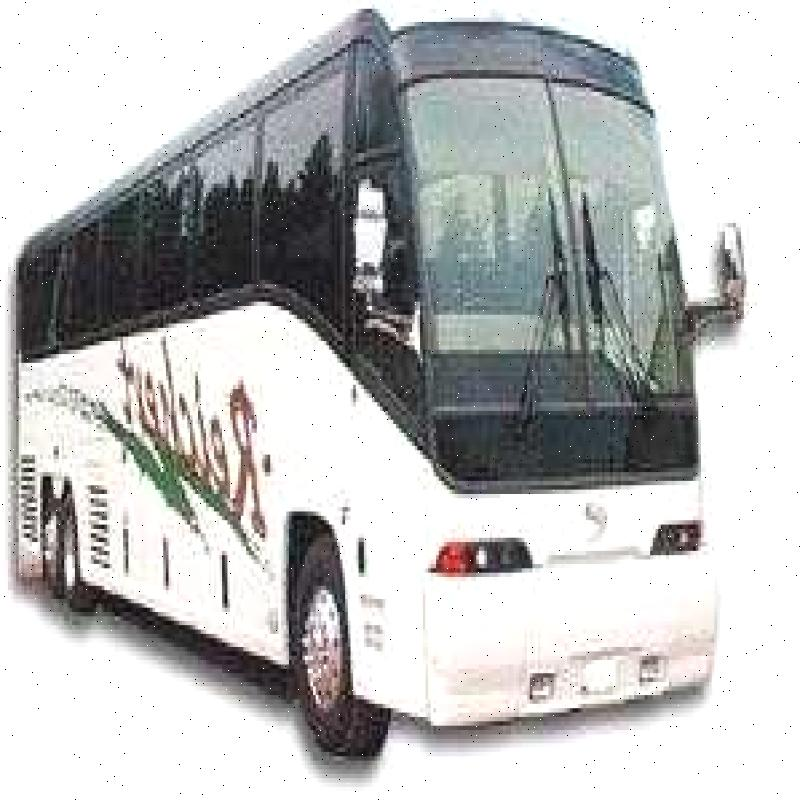bus: (1, 30, 721, 731)
